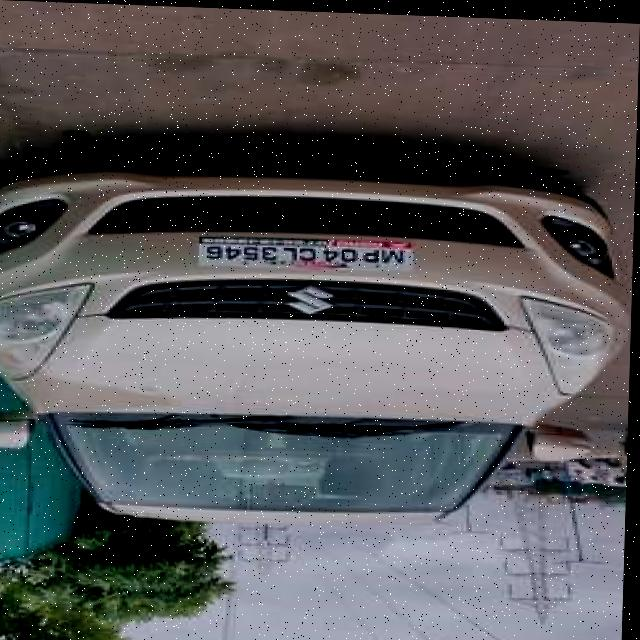plate: (199, 231, 417, 272)
